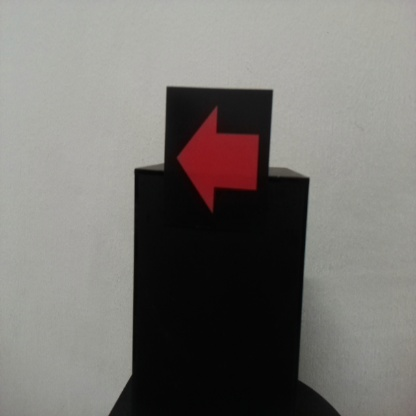id_4: (165, 87, 271, 235)
